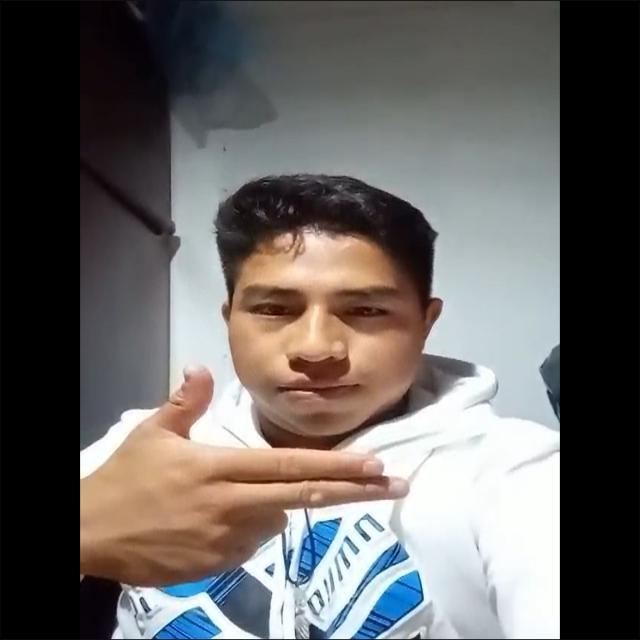H: (76, 313, 385, 617)
